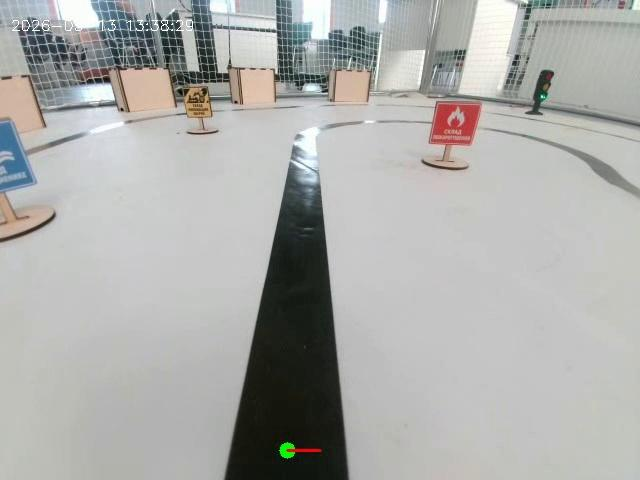fire: (402, 78, 492, 185)
flood: (0, 105, 70, 230)
industrial: (173, 84, 221, 140)
